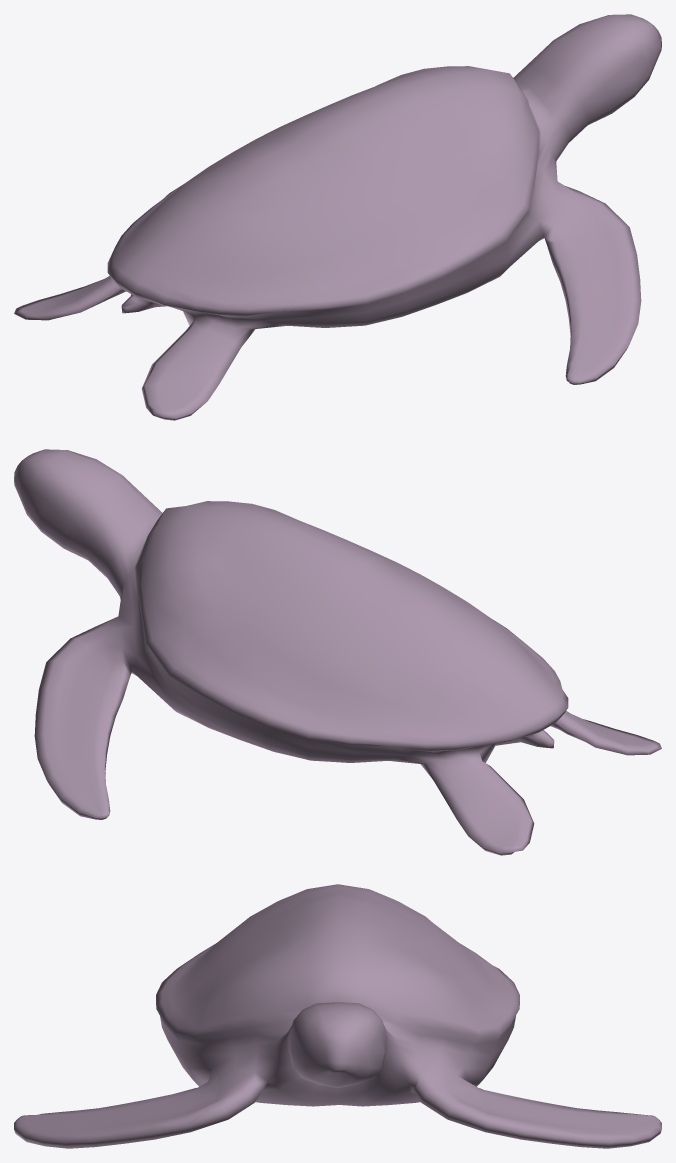
Rendered from Turtle_with_normal.fbx.
3 renders of one model, top to bottom at view 1: azimuth 30°, elevation 25°; view 2: azimuth 150°, elevation 25°; view 3: azimuth 270°, elevation 25°, orthographic. The views are drawn at different scales.
Parts seen in each view (by area): view 1: Turtle_Low_Turtle_Low_UVEd; view 2: Turtle_Low_Turtle_Low_UVEd; view 3: Turtle_Low_Turtle_Low_UVEd.
Boxes of the visible parts, x1,y1,x2,y2 form: Turtle_Low_Turtle_Low_UVEd: (14, 14, 661, 420); Turtle_Low_Turtle_Low_UVEd: (14, 449, 661, 855); Turtle_Low_Turtle_Low_UVEd: (14, 884, 661, 1148).
Size of the model in its own units: 4.23 by 1.53 by 3.96.
